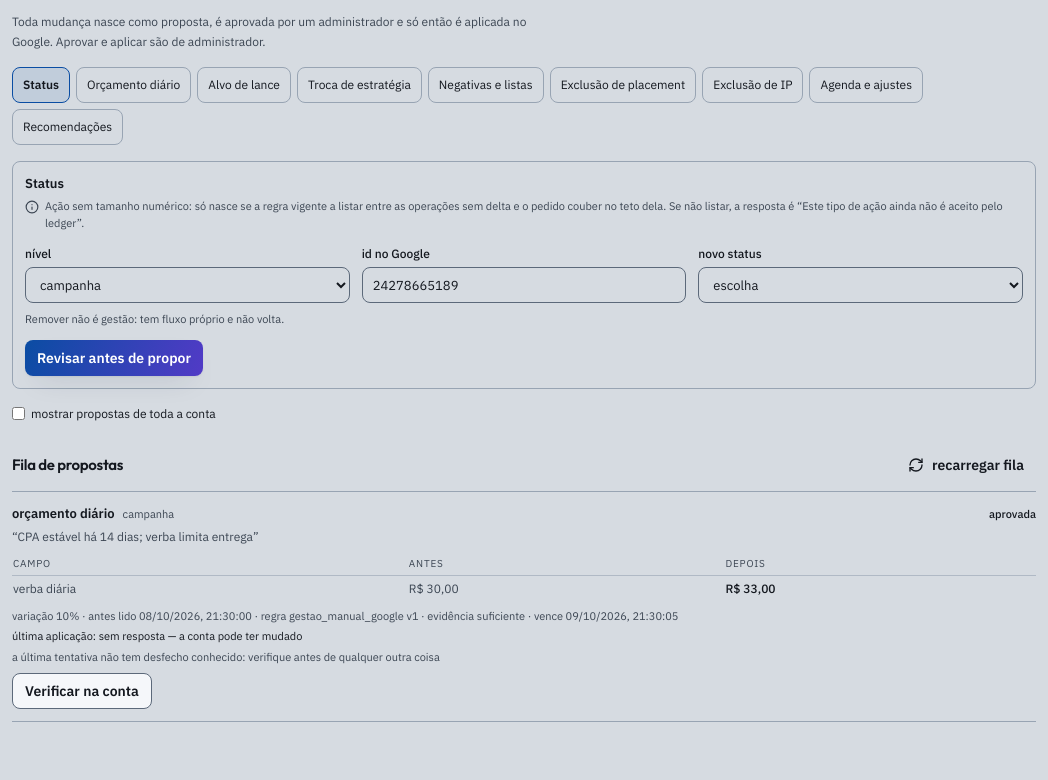
Test case: a fila: diff, decisão e desfecho › em `verificar` ninguém reaplica: qualquer usuário só verifica
Click the button "Verificar na conta". click: x=82, y=691
box: [12, 673, 152, 709]
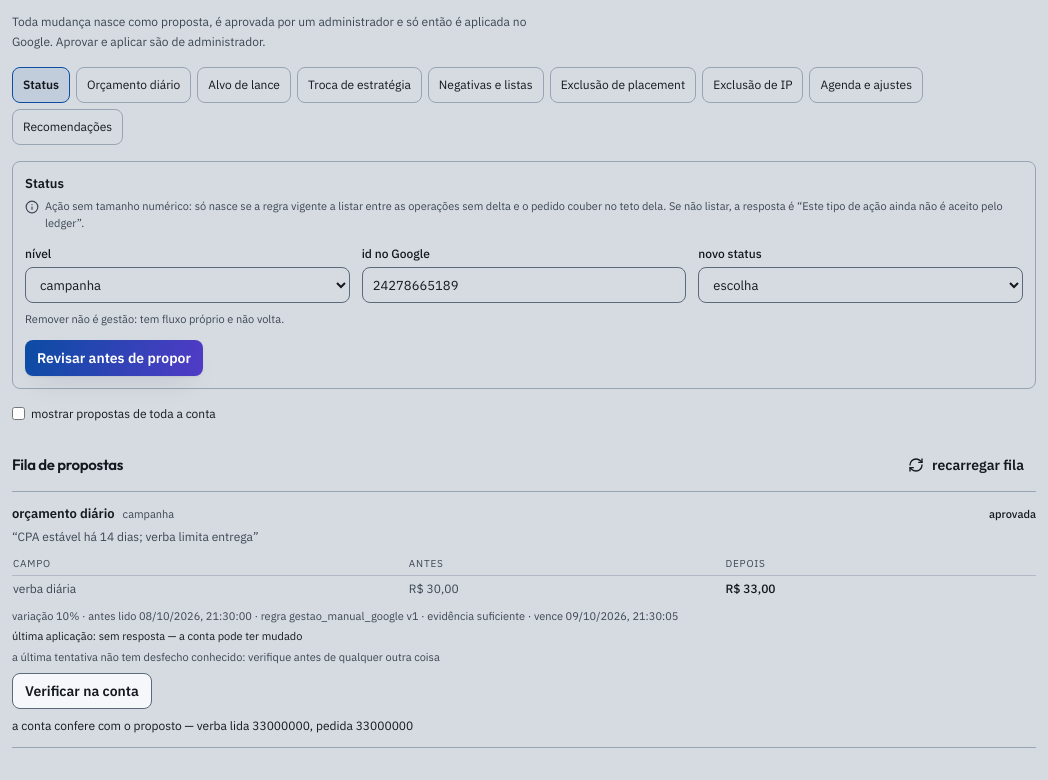
Expected: the text "a conta confere com o proposto — verba lida 33000000, pedida 33000000" is shown, [12, 718, 413, 733]
